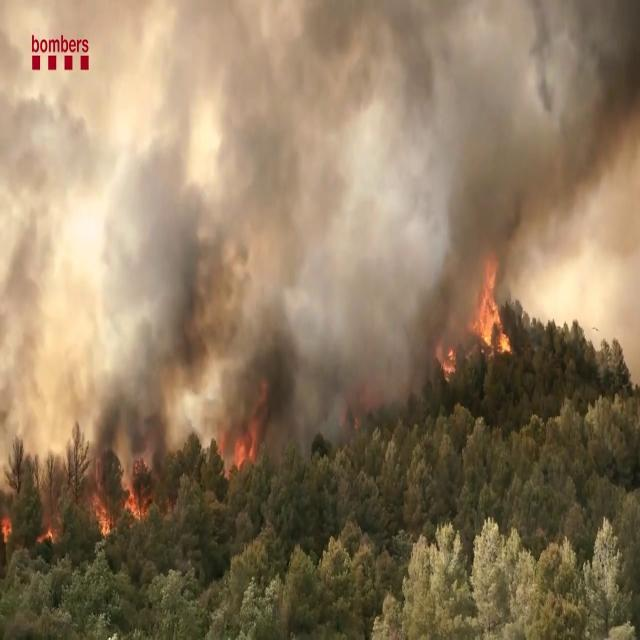Fire: (88, 422, 155, 546), (469, 257, 514, 363), (227, 428, 255, 478)
Smoke: (1, 1, 638, 477)
